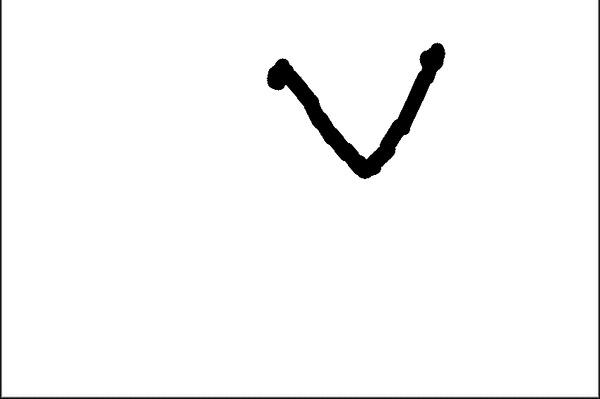V: (256, 30, 453, 184)
